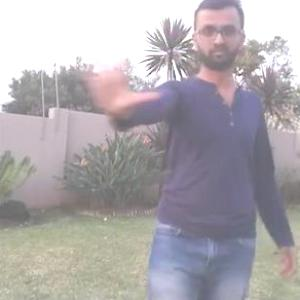follow_hand: (67, 31, 162, 117)
